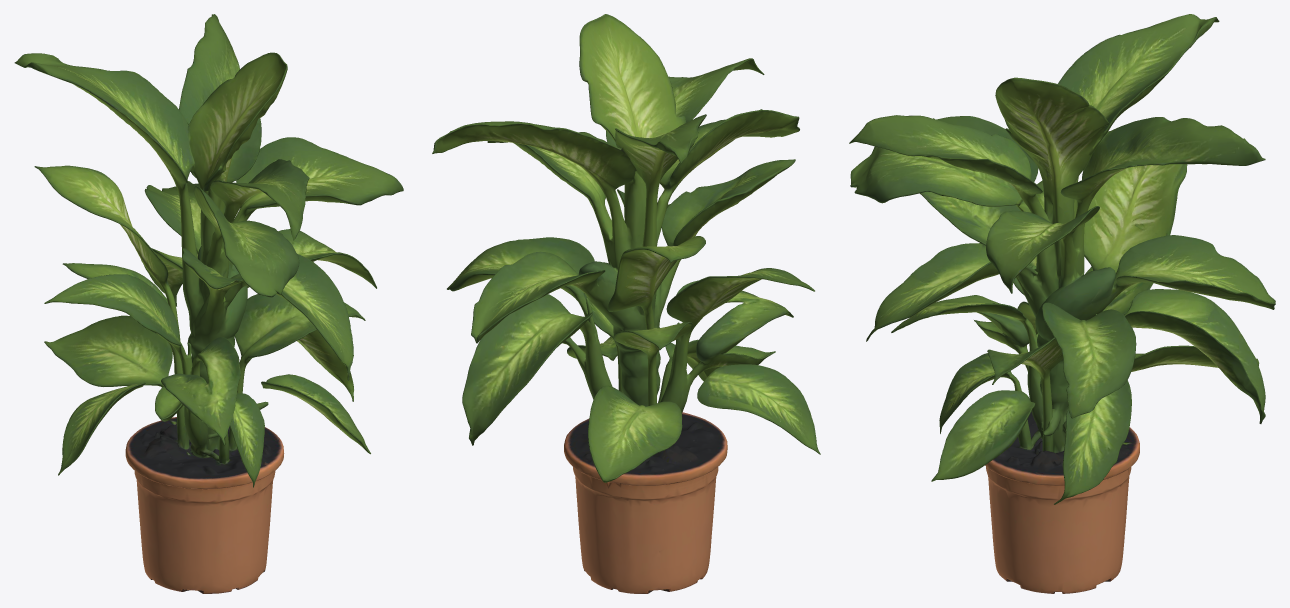
File: plant.glb
The picture shows the model from 3 angles, left to right: view 1: azimuth 30°, elevation 25°; view 2: azimuth 150°, elevation 25°; view 3: azimuth 270°, elevation 25°; orthographic projection. The views are drawn at different scales.
Visible parts, largest first — view 1: tripo_node_15964886-082f-4ab9-afe3-b0ddd136f053; view 2: tripo_node_15964886-082f-4ab9-afe3-b0ddd136f053; view 3: tripo_node_15964886-082f-4ab9-afe3-b0ddd136f053.
Boxes of the visible parts, x1,y1,x2,y2 form: tripo_node_15964886-082f-4ab9-afe3-b0ddd136f053: (14, 14, 403, 593); tripo_node_15964886-082f-4ab9-afe3-b0ddd136f053: (432, 14, 820, 593); tripo_node_15964886-082f-4ab9-afe3-b0ddd136f053: (849, 14, 1275, 593).
Size of the model in its own units: 0.4859 by 0.6882 by 0.5112.
Materials: 1 (1 with a texture image).
